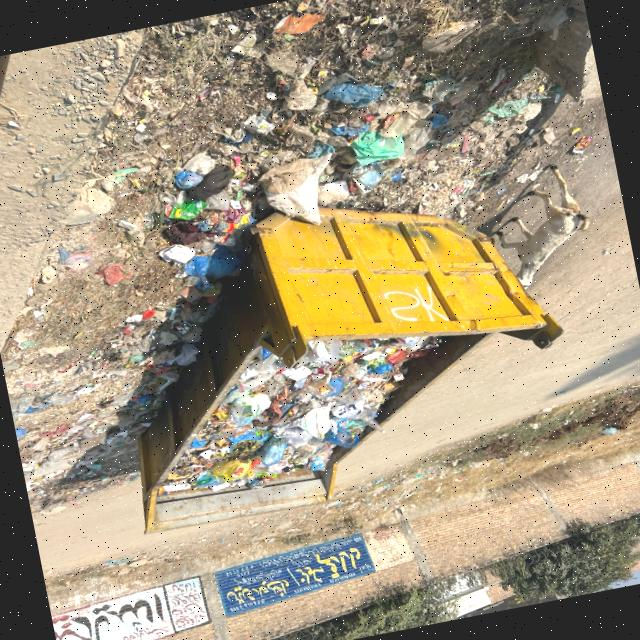garbage: (114, 0, 505, 268), (0, 262, 267, 507), (152, 327, 428, 501)
